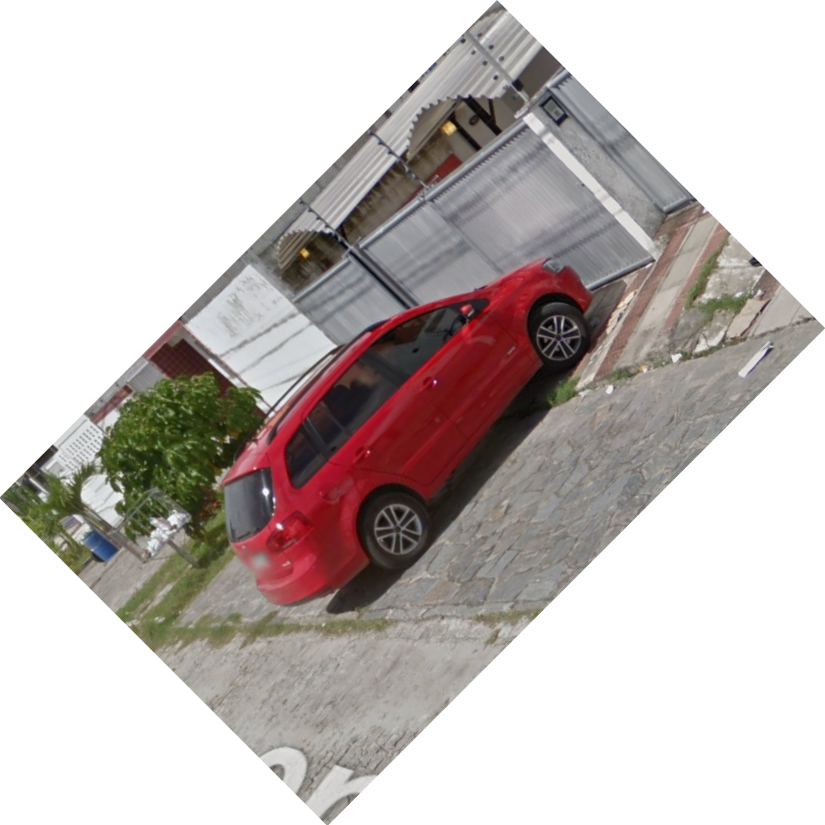car: (215, 248, 597, 612)
